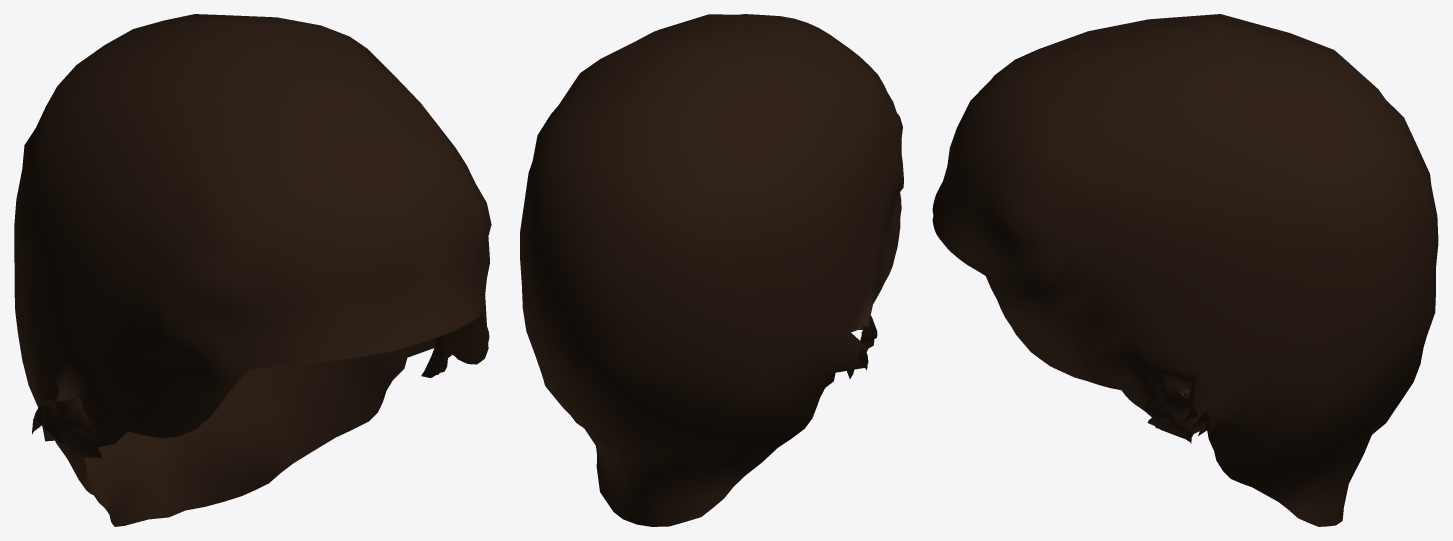
The model's file is hair_crop.glb.
3 renders of one model, left to right at view 1: azimuth 30°, elevation 25°; view 2: azimuth 150°, elevation 25°; view 3: azimuth 270°, elevation 25°, orthographic. The views are drawn at different scales.
Visible parts, largest first — view 1: hair_crop; view 2: hair_crop; view 3: hair_crop.
Part boxes in pixels (left/top/right/bottom): hair_crop: left=14, top=14, right=491, bottom=526; hair_crop: left=520, top=14, right=903, bottom=526; hair_crop: left=932, top=14, right=1438, bottom=526.
Bounding box in the file's own units: 0.1844 × 0.2288 × 0.22.
